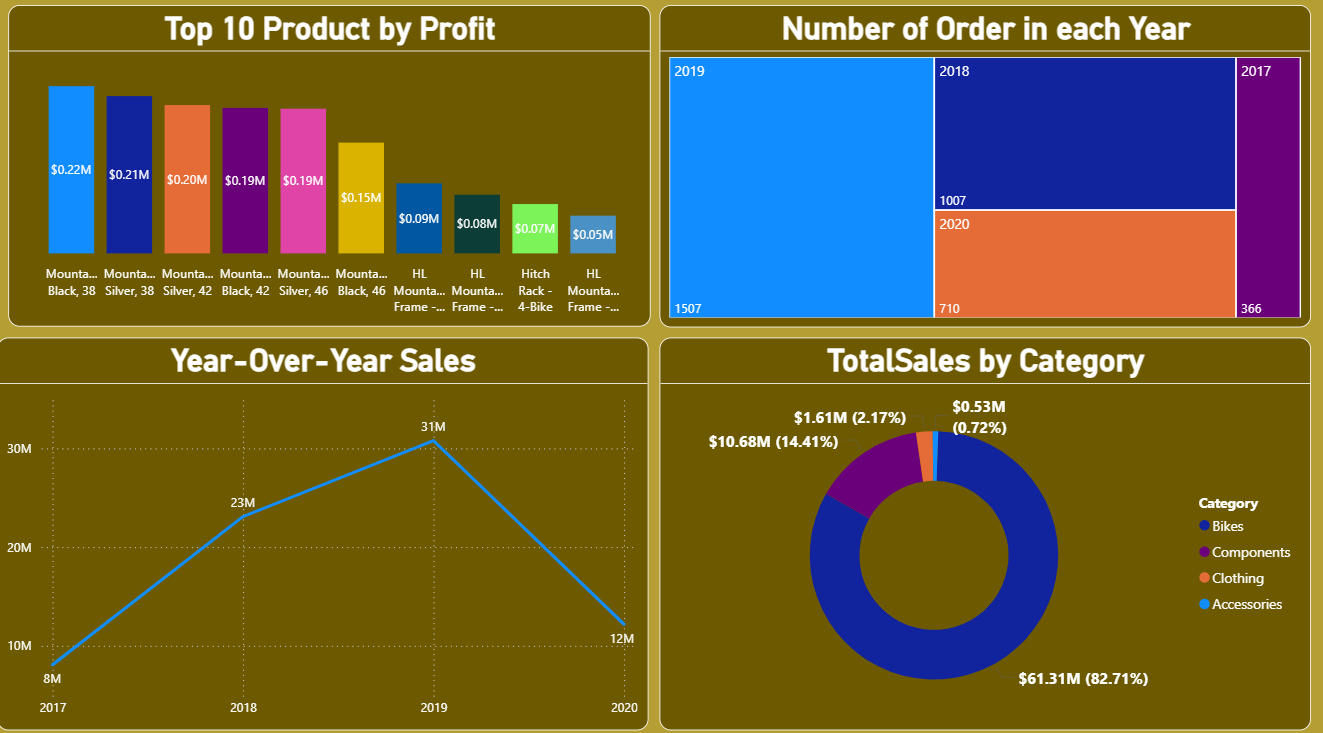

The dashboard page shown, as its layout file describes it:
{"tool":"powerbi","page":{"name":"Page 4","canvas":[1280,720],"ordinal":3},"visuals":[{"type":"columnChart","title":"Top 10 Product by Profit","fields":{"Category":["Sales.Product"],"Y":["Sales.profit"],"Series":["Sales.Product"]},"box":[11.4,10,620,310.7],"z":1000},{"type":"donutChart","fields":{"Category":["Sales.Category"],"Y":["Sales.TotalSales"]},"box":[640,330.7,628.6,379.2],"z":2000},{"type":"lineChart","title":"Year-Over-Year Sales","fields":{"Category":["Sales.OrderDate.Variation.Date Hierarchy.Year"],"Y":["Sales.YoY Change"]},"box":[0,330.7,628.6,379.2],"z":2001},{"type":"treemap","title":"Number of Order in each Year","fields":{"Values":["Count(Sales.OrderNumber)"],"Group":["Sales.OrderDate.Variation.Date Hierarchy.Year"]},"box":[640,10,629,311],"z":2002}]}

Visuals, with their boxes in screenshot pixels (x1, y1, x2, y2), scaled from the page's 1280x720 canvas onto the 1323x733 screenshot:
"Top 10 Product by Profit" columnChart: box=[12, 10, 653, 326]
donutChart - Sales.Category x Sales.TotalSales: box=[662, 337, 1311, 723]
"Year-Over-Year Sales" lineChart: box=[0, 337, 650, 723]
"Number of Order in each Year" treemap: box=[662, 10, 1312, 327]
